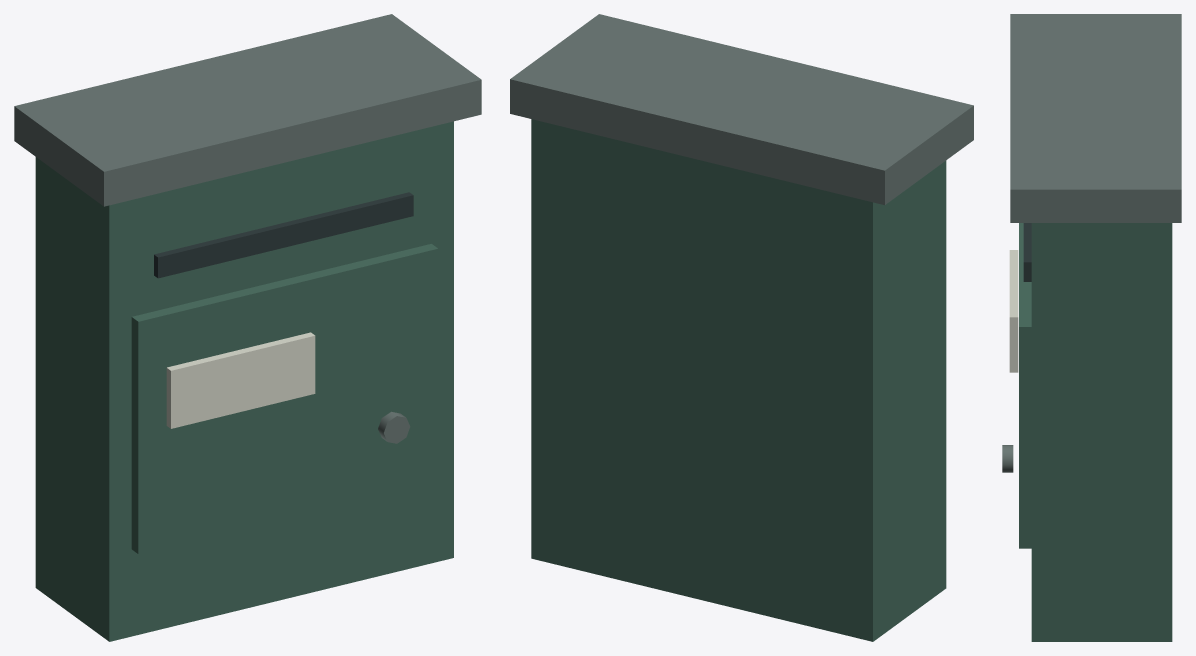
The picture shows the model from 3 angles, left to right: view 1: azimuth 30°, elevation 25°; view 2: azimuth 150°, elevation 25°; view 3: azimuth 270°, elevation 25°; orthographic projection. The views are drawn at different scales.
Visible parts, largest first — view 1: part-1, part-4, part-2, part-5, part-3, part-6; view 2: part-1, part-2; view 3: part-1, part-2, part-4, part-5, part-3, part-6.
Boxes of the visible parts, x1,y1,x2,y2 form: part-1: (35,121,453,641); part-4: (131,244,438,554); part-2: (14,14,481,206); part-5: (166,332,315,428); part-3: (154,192,413,278); part-6: (378,411,410,443); part-1: (531,119,946,641); part-2: (510,14,973,205); part-1: (1031,223,1172,641); part-2: (1010,14,1181,222); part-4: (1019,223,1031,548); part-5: (1009,250,1018,372); part-3: (1023,223,1031,281); part-6: (1002,445,1013,472).
Bounding box in the file's own units: 0.34 × 0.415 × 0.1465.
